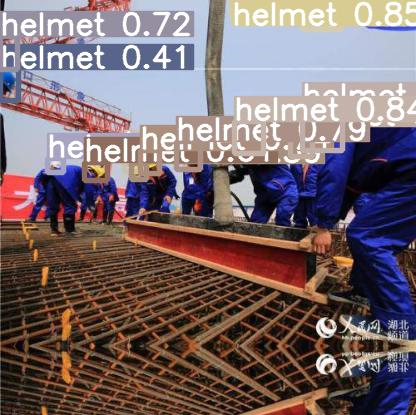helmet: (302, 107, 342, 150), (302, 0, 341, 29), (234, 121, 263, 153), (176, 141, 200, 169), (290, 126, 312, 156), (0, 36, 17, 69), (0, 69, 18, 100), (232, 0, 262, 16), (140, 150, 159, 173), (84, 162, 107, 180), (124, 155, 139, 171), (131, 163, 146, 179), (47, 158, 63, 172), (290, 0, 310, 9)
